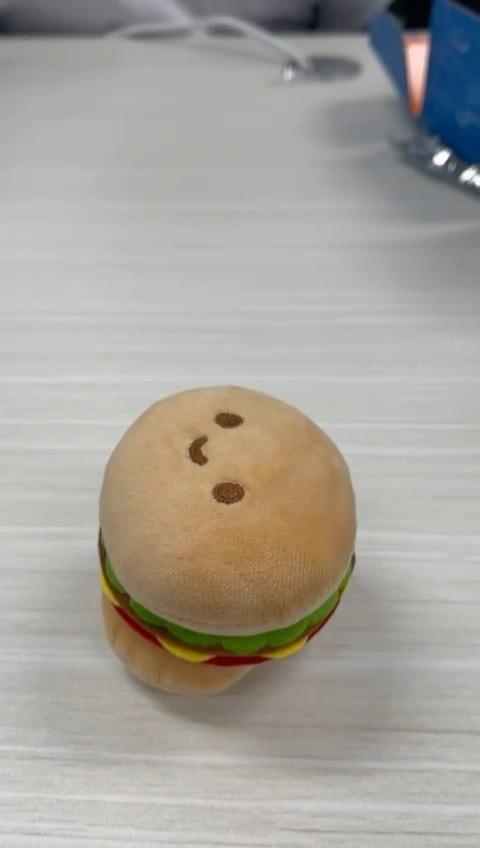hamburger: (97, 386, 359, 699)
